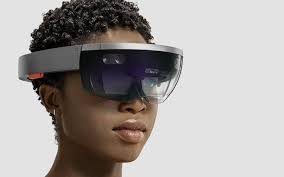hololens: (17, 42, 185, 108)
